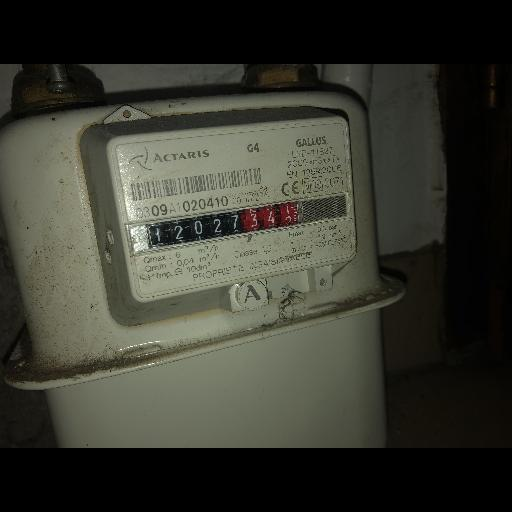0: (189, 215, 212, 242)
1: (147, 221, 175, 250), (276, 201, 300, 227)
2: (209, 212, 232, 238), (170, 218, 192, 244)
3: (238, 207, 262, 233)
4: (258, 204, 280, 230)
7: (228, 211, 243, 236)
border_water_meter_number: (146, 196, 305, 252)
